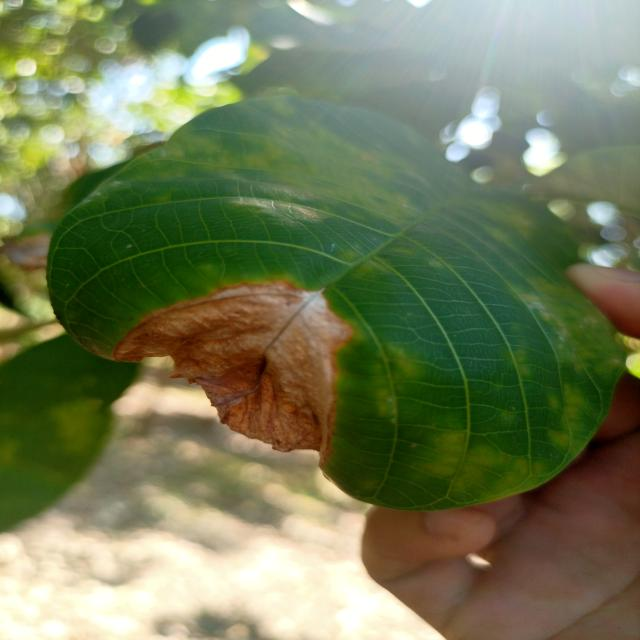Leaf-Blight: (111, 279, 353, 467)
